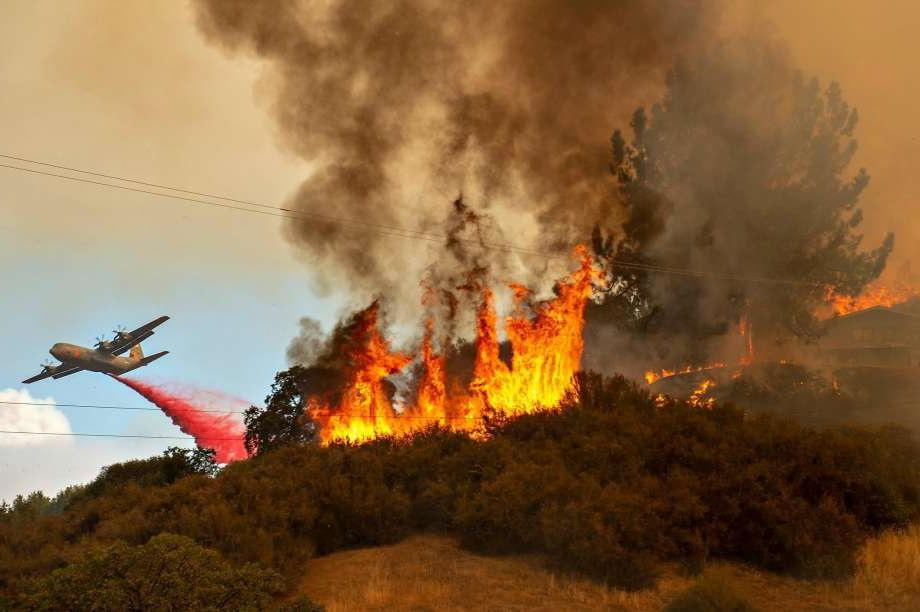Fire: (310, 267, 607, 450), (648, 342, 758, 415), (816, 281, 911, 319)
